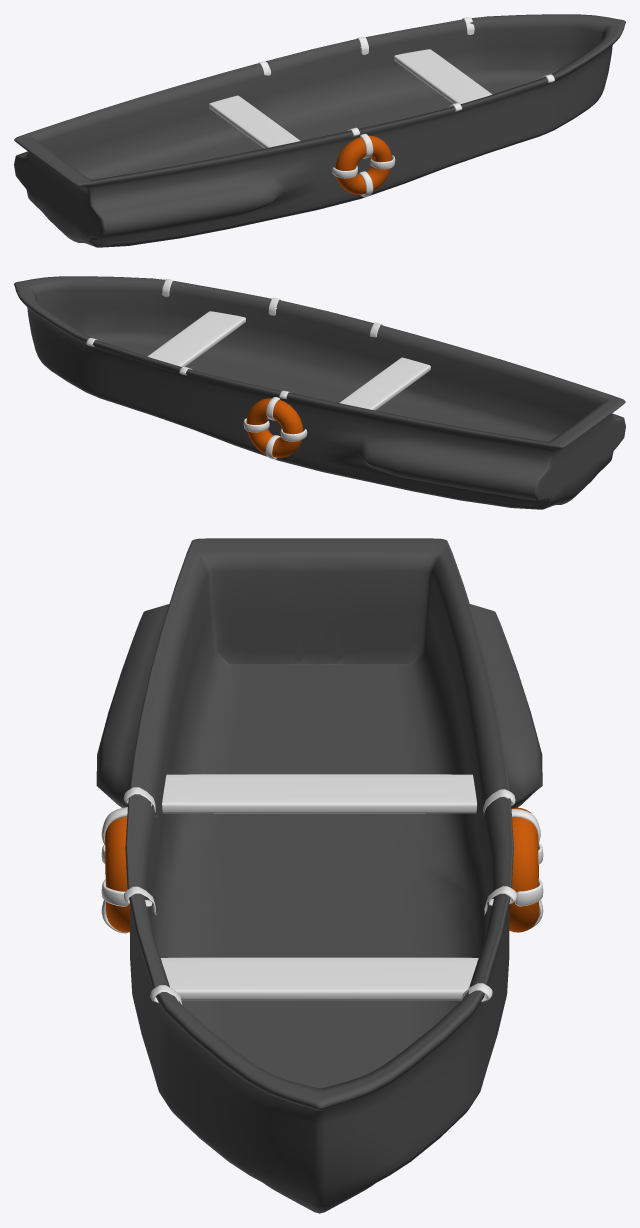
Rendered from Boat.fbx.
3 views of the same model, one above another, from view 1: azimuth 30°, elevation 25°; view 2: azimuth 150°, elevation 25°; view 3: azimuth 270°, elevation 25° (orthographic). The views are drawn at different scales.
Visible parts, largest first — view 1: pCube19; view 2: pCube19; view 3: pCube19.
Part boxes in pixels (left/top/right/bottom): pCube19: left=14, top=14, right=625, bottom=247; pCube19: left=14, top=276, right=625, bottom=509; pCube19: left=96, top=538, right=543, bottom=1213.
Size of the model in its own units: 374 by 57.45 by 124.
